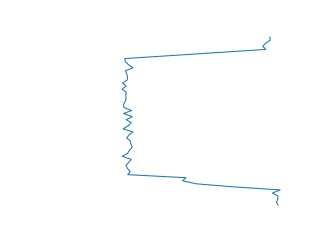distributaryChannelFill: (112, 33, 286, 206)
